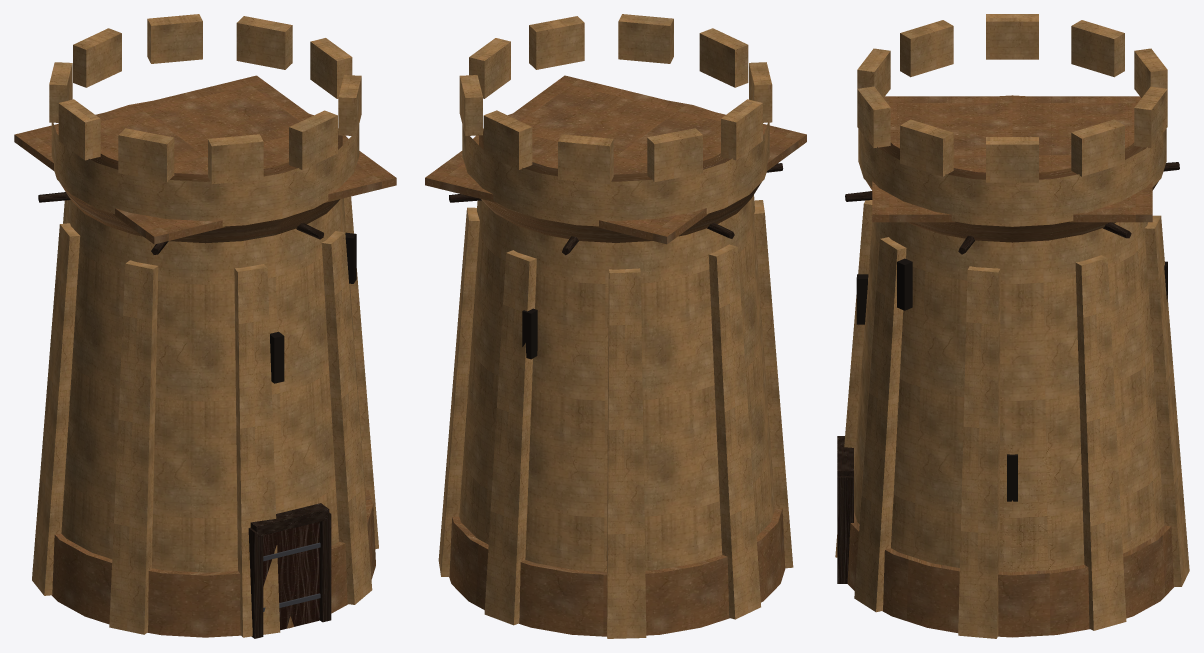
The model's file is B_tower.glb.
3 views of the same model, side by side, from view 1: azimuth 30°, elevation 25°; view 2: azimuth 150°, elevation 25°; view 3: azimuth 270°, elevation 25° (orthographic).
Size of the model in its own units: 6.33 by 9.58 by 6.33.
6 materials, 4 textured.
